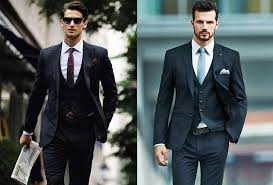F_M_suit jacket: (20, 38, 122, 150), (148, 38, 248, 148)
F_belt: (185, 121, 230, 137)
F_dress pants: (170, 135, 233, 185)
F_tie: (192, 45, 212, 93), (64, 48, 78, 87)
